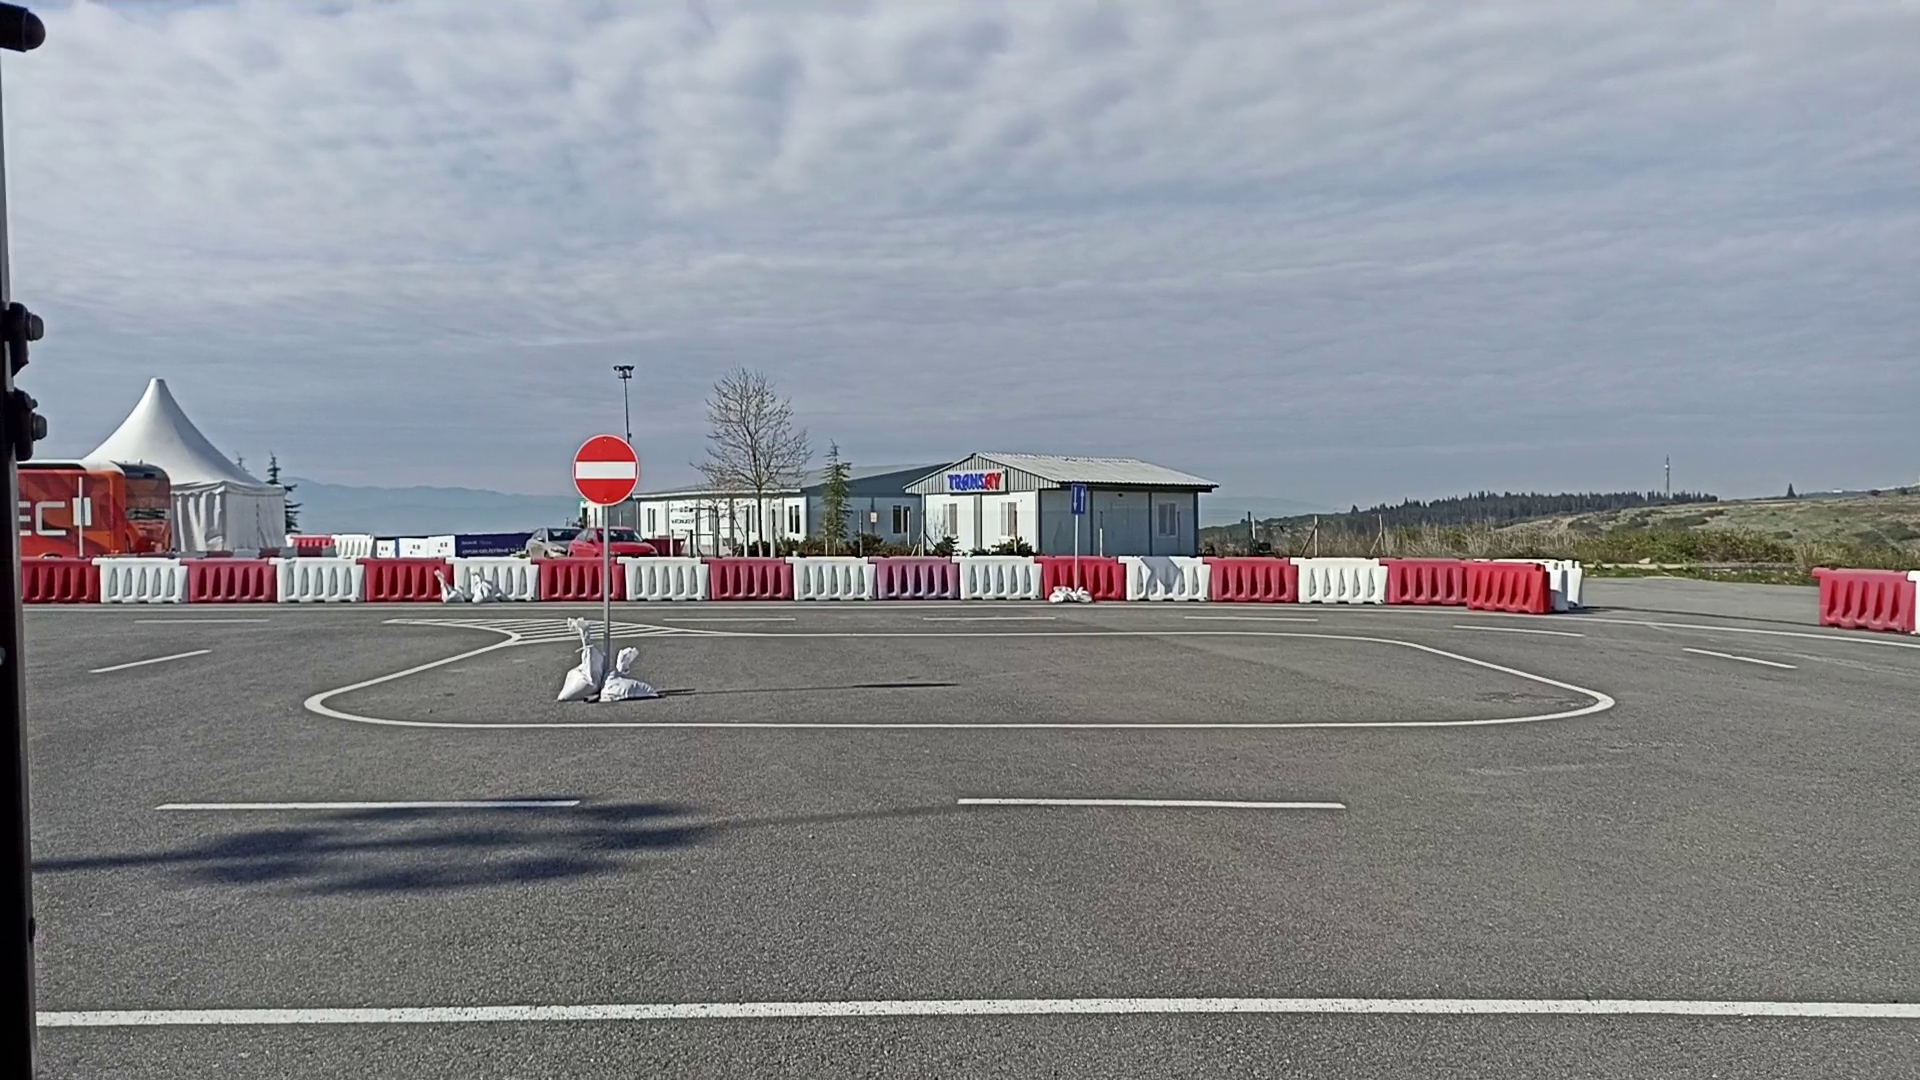noentryway: (570, 433, 640, 506)
